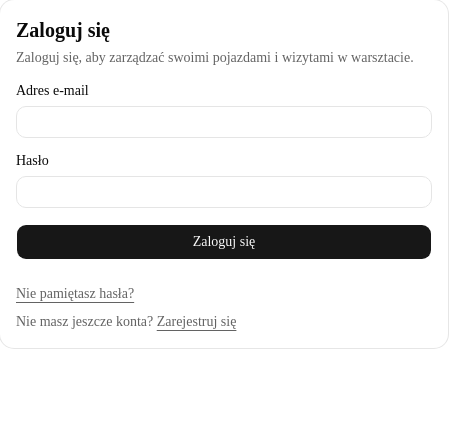
Test: LoginForm › shows Polish validation messages for empty fields
Click the button "Zaloguj się" at (224, 242), box [16,224,432,260]
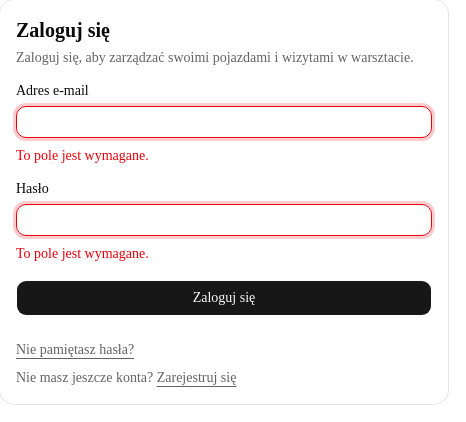
Check: the text "To pole jest wymagane." is shown 2 times, box [16,148,149,163]; [16,246,149,261]
